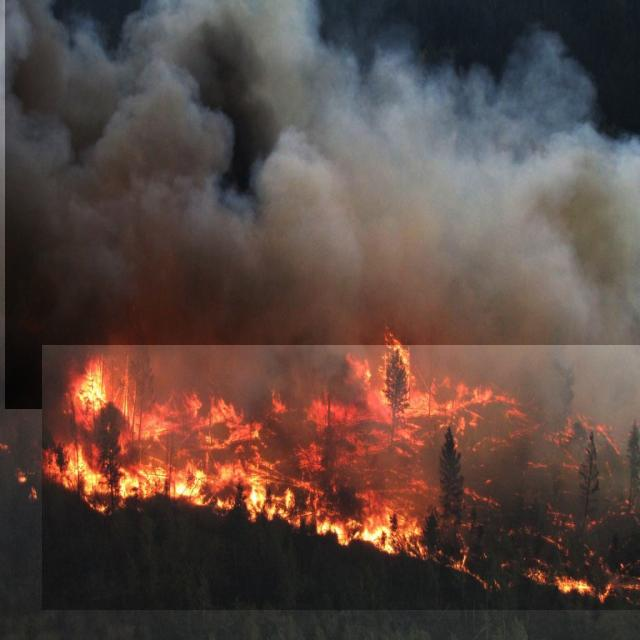Fire: (42, 345, 640, 610)
Smoke: (5, 0, 640, 409)
